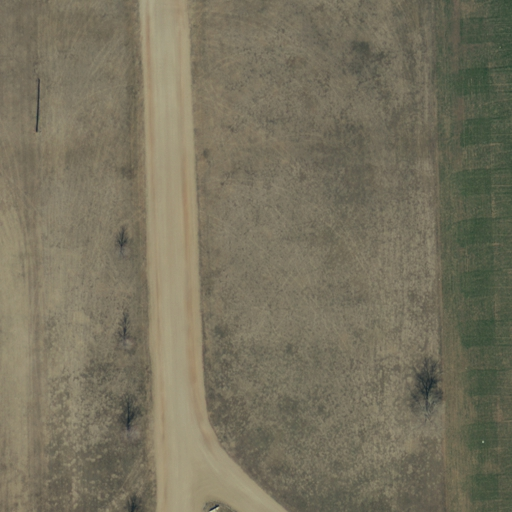DT: (22, 121, 54, 151)
